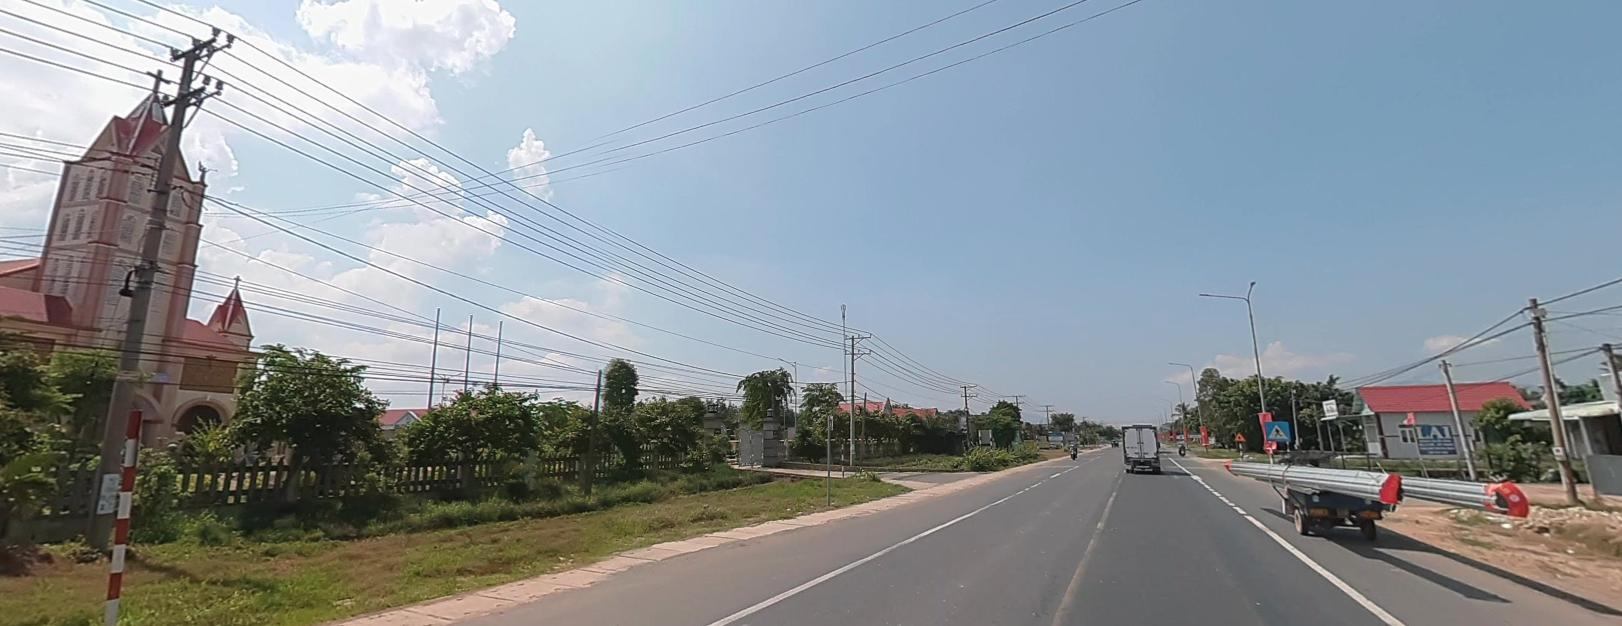Nguy hiem: (1233, 430, 1246, 441)
